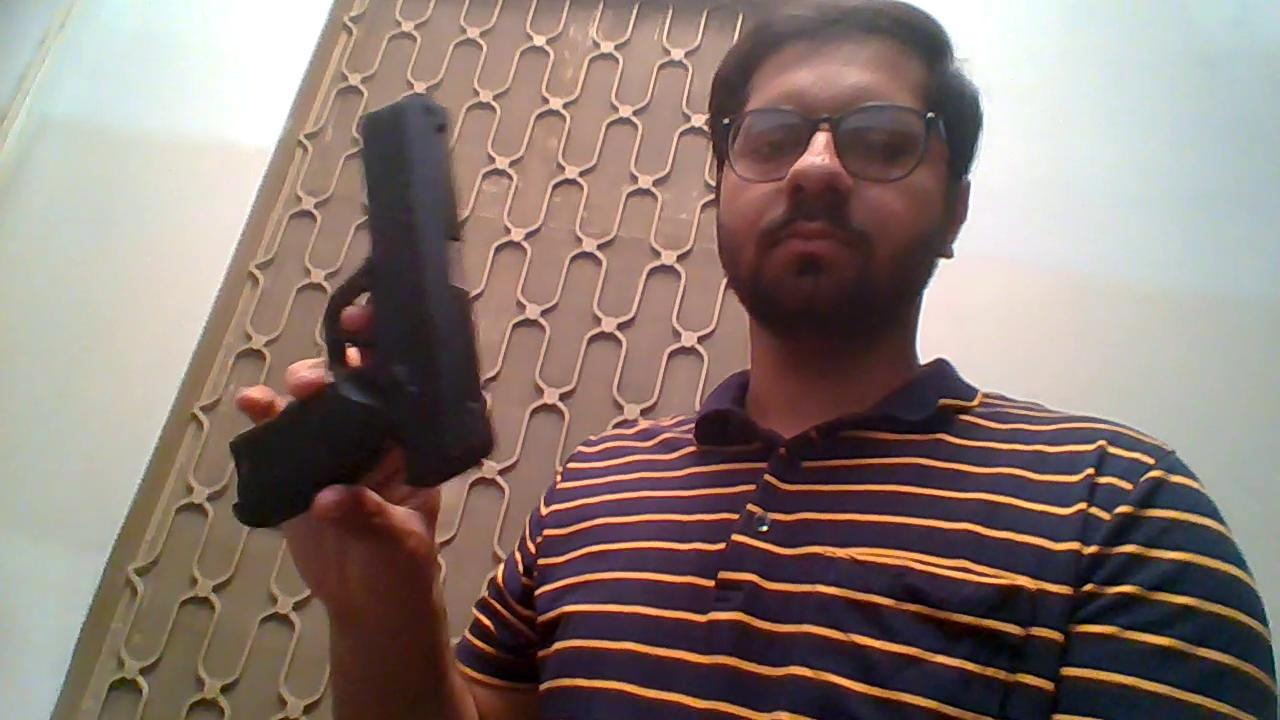criminal: (226, 0, 1280, 720)
weapon: (226, 95, 493, 531)
